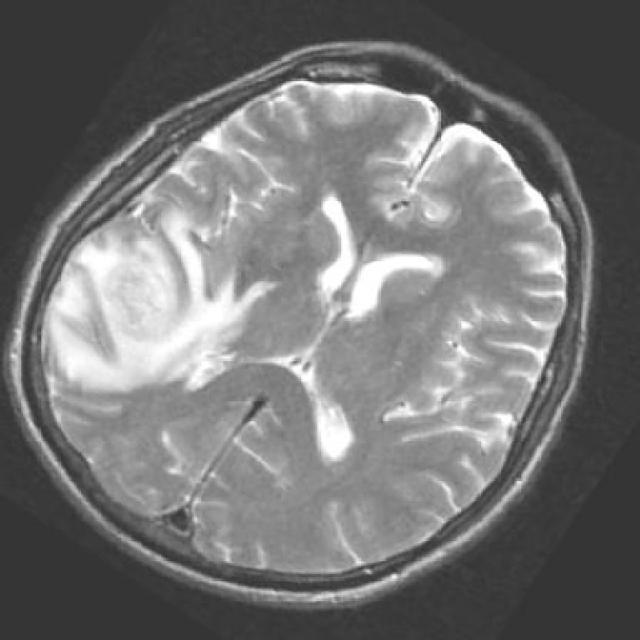Brain-Tumor: (28, 192, 259, 410)
